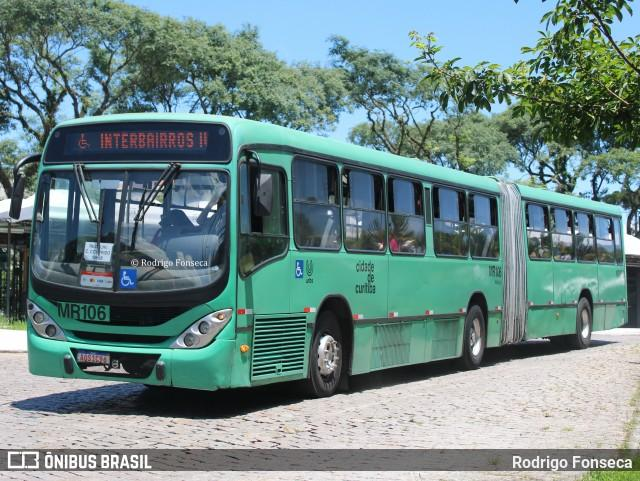INTERBAIRROS II: (96, 129, 211, 155)
